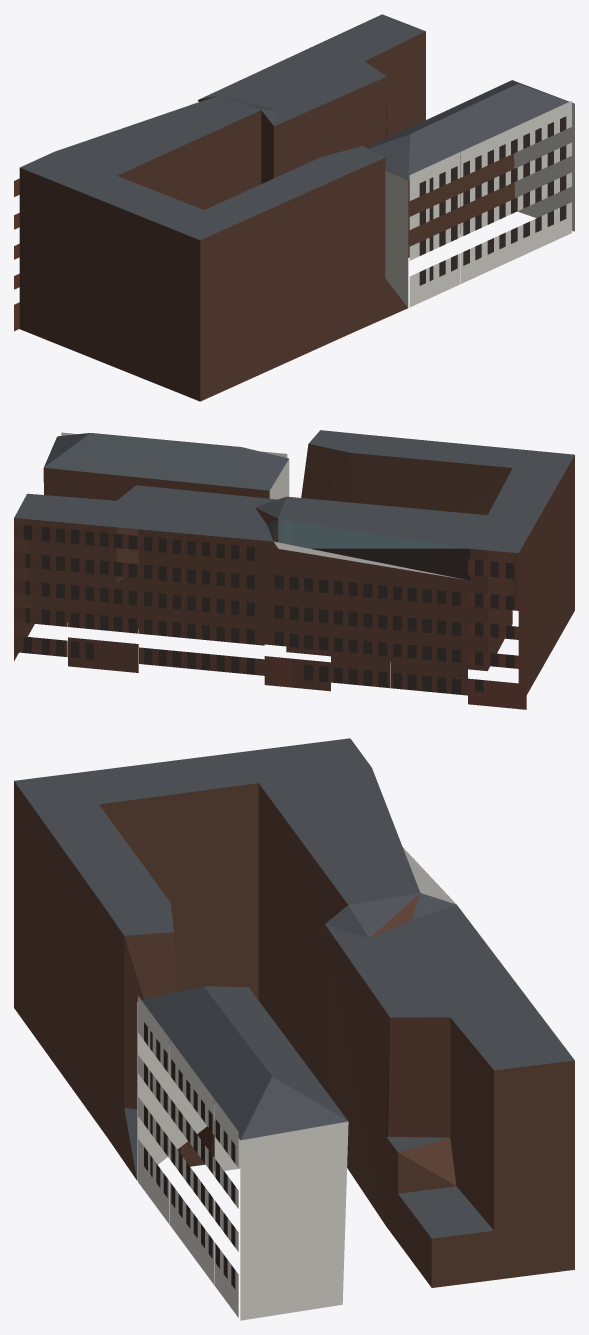
The model's file is crea.lod2.glb.
The picture shows the model from 3 angles, top to bottom: view 1: azimuth 30°, elevation 25°; view 2: azimuth 150°, elevation 25°; view 3: azimuth 270°, elevation 25°; orthographic projection. The views are drawn at different scales.
Parts seen in each view (by area): view 1: lod2; view 2: lod2; view 3: lod2.
Part boxes in pixels (x1,y1,x2,y2): lod2: (14, 14, 574, 401); lod2: (14, 430, 574, 709); lod2: (14, 738, 574, 1320).
Bounding box in the file's own units: 66.17 × 19.53 × 43.63.
